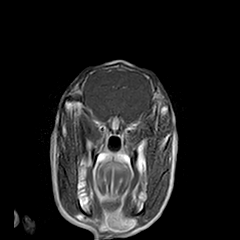Brain: (69, 39, 168, 137)
